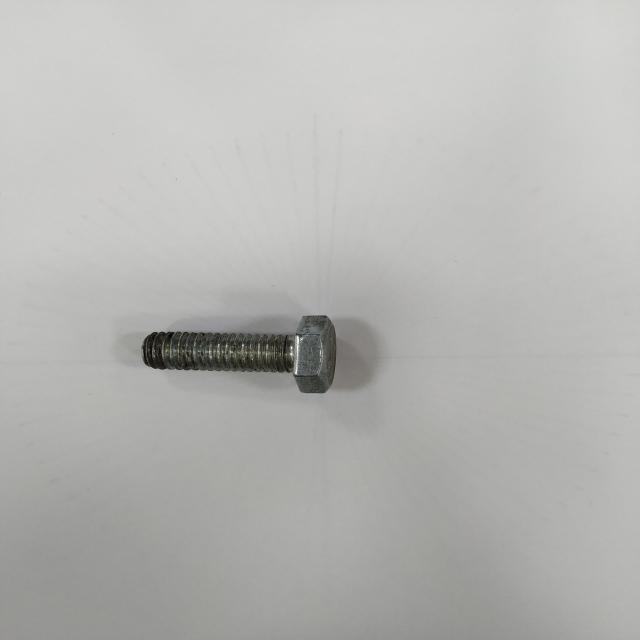Bolt: (142, 315, 337, 394)
